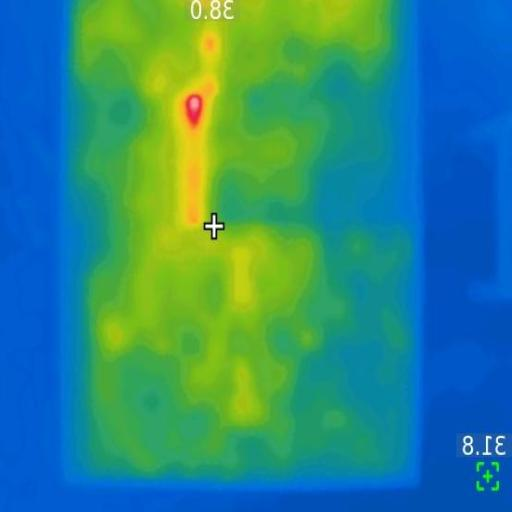hotspot: (184, 93, 203, 130)
